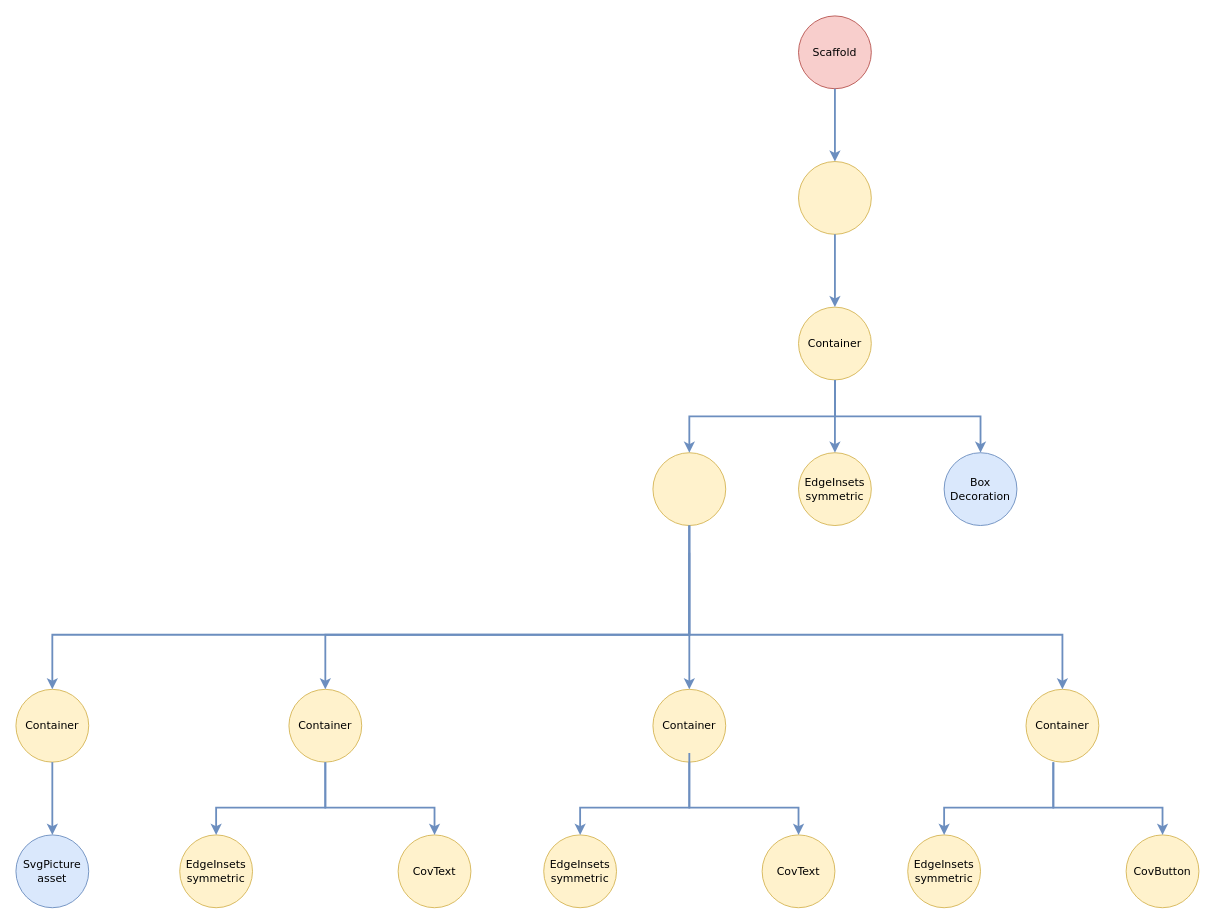
The diagram is 1215 pixels wide and 924 high, and some of its shapes have lost their labels. The shapes that lost their labels are listed below. From the top down, each one's centre as x and y in pixels, then its label:
the point at 834,197: SafeArea
the point at 689,489: Column
